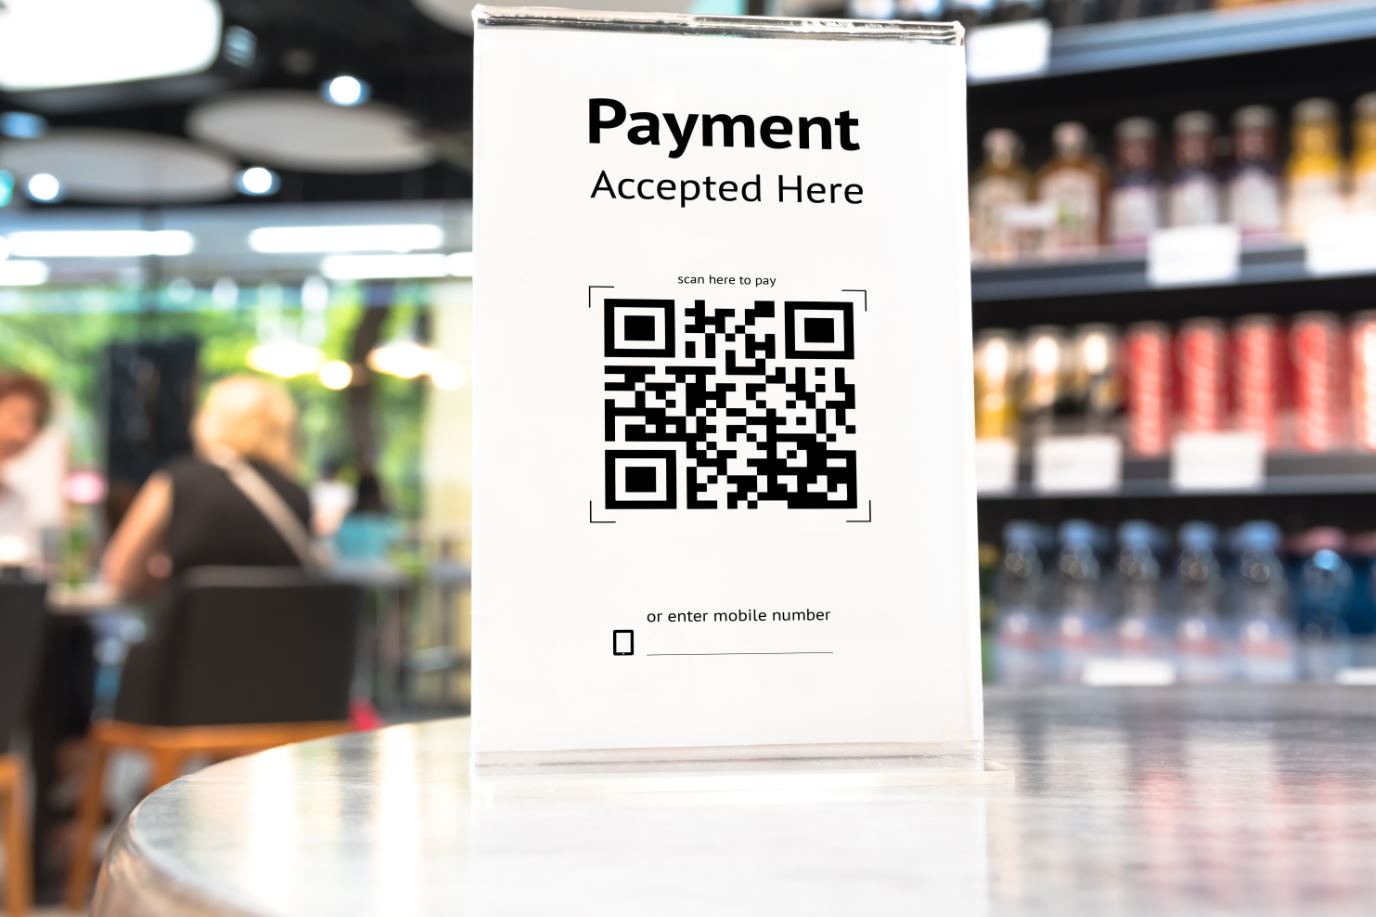QRCode: (603, 296, 860, 510)
